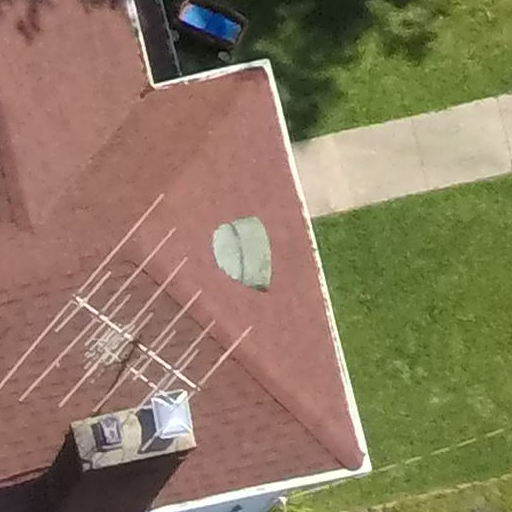toy: (168, 3, 255, 62)
